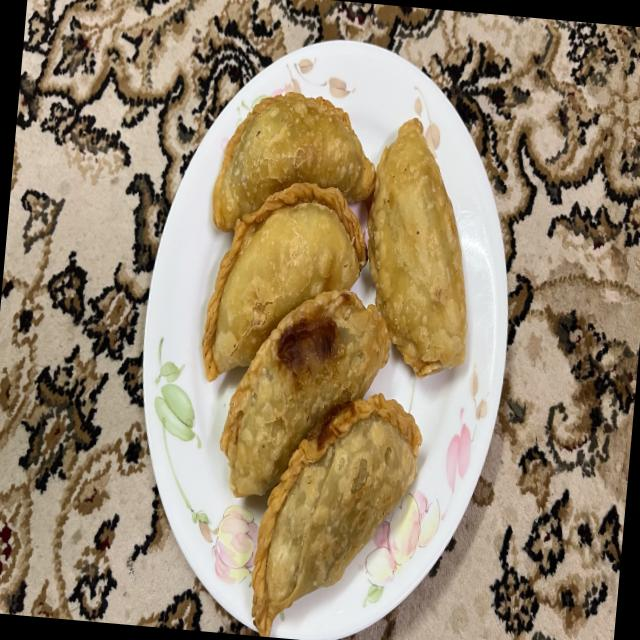karipap: (251, 394, 421, 634), (220, 290, 390, 496), (201, 182, 367, 380), (367, 118, 467, 378), (212, 90, 375, 232)
